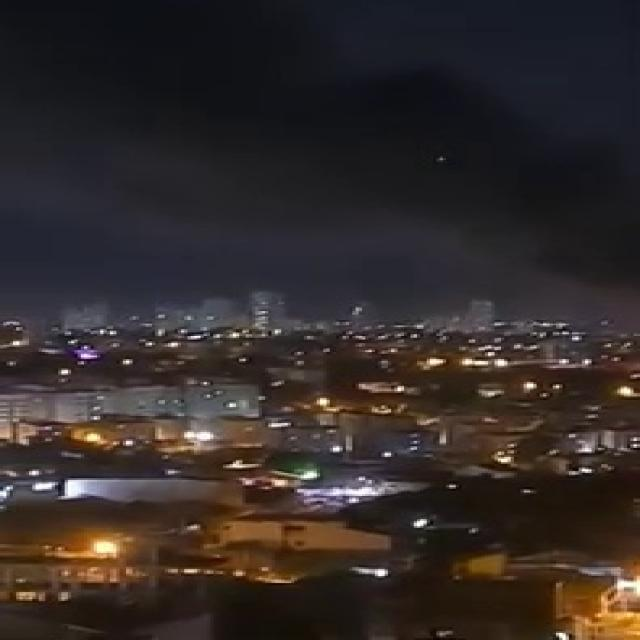Smoke: (16, 0, 640, 299)
